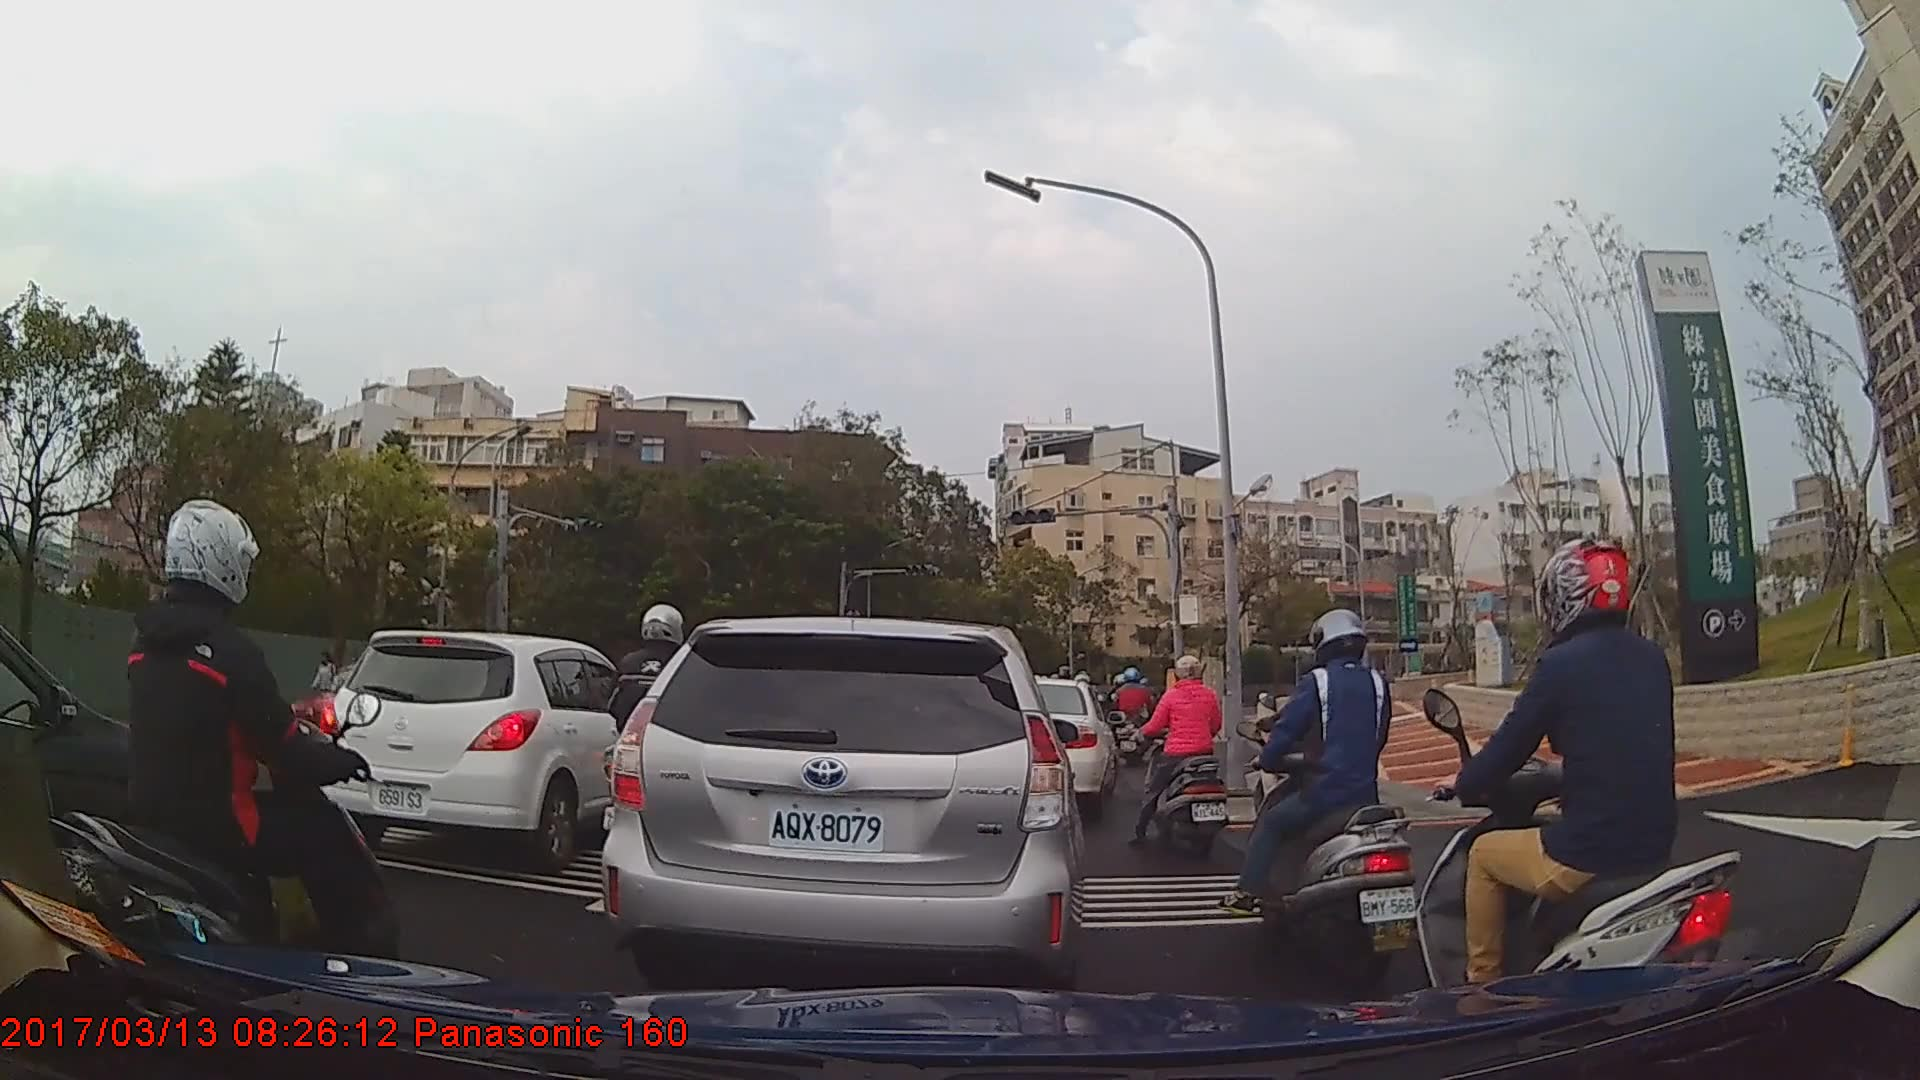pedestrian: (313, 652, 341, 728)
rider: (47, 496, 399, 1039), (1419, 530, 1747, 1061), (1242, 614, 1417, 999), (612, 598, 711, 905), (1134, 656, 1233, 862), (1109, 666, 1153, 766)
vehicle: (603, 613, 1085, 1034), (316, 629, 648, 872), (1009, 677, 1116, 811)
